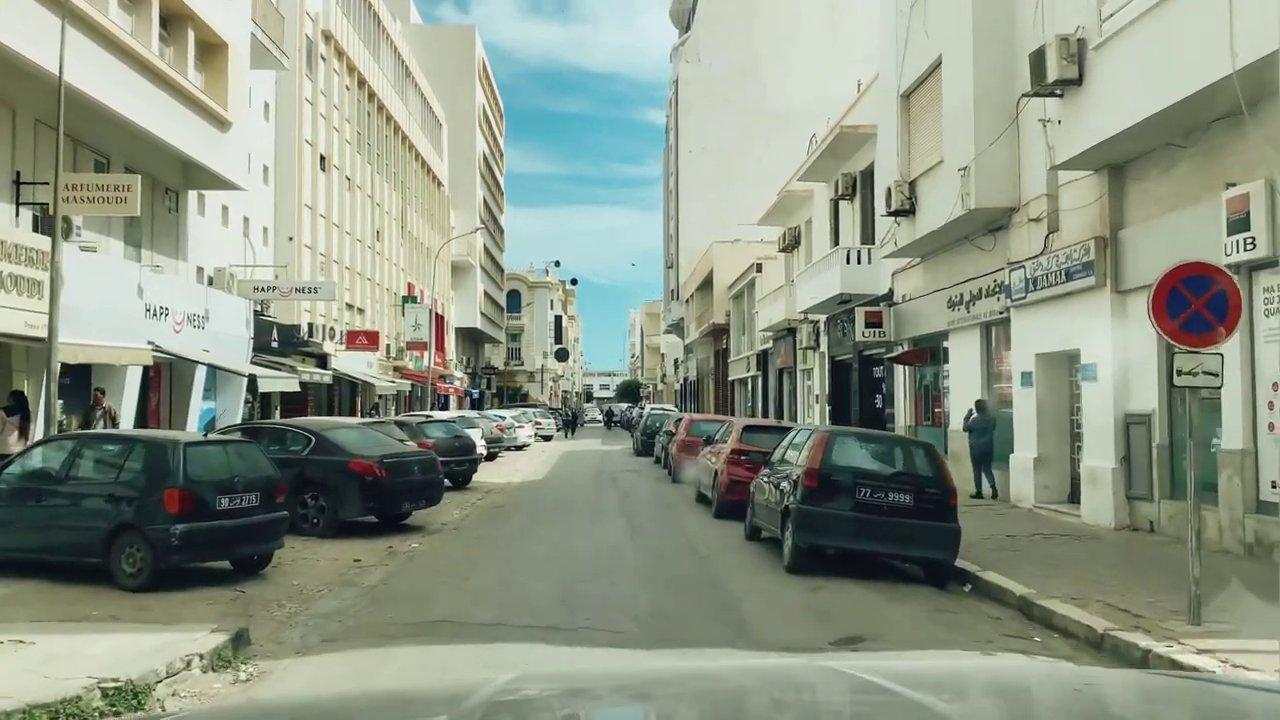no stopping: (1144, 257, 1245, 353)
